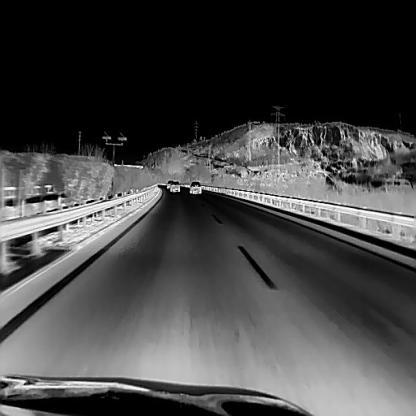car: (189, 181, 201, 193), (169, 179, 179, 191), (166, 179, 173, 188)
